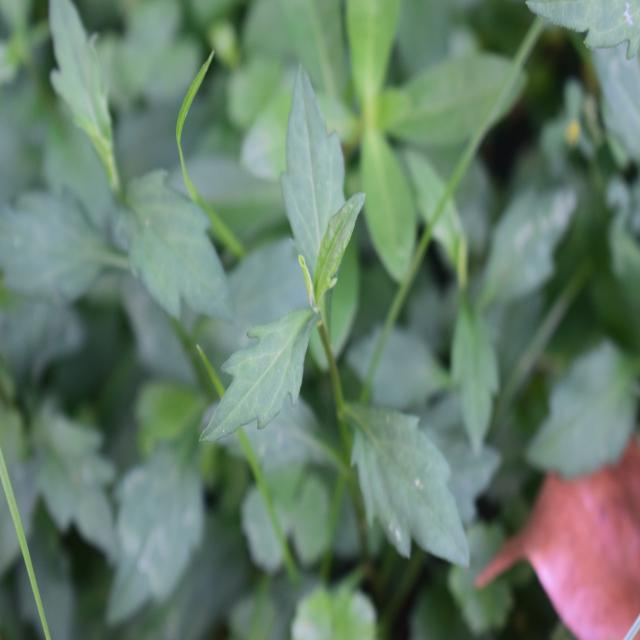Indian aster: (228, 112, 480, 574)
